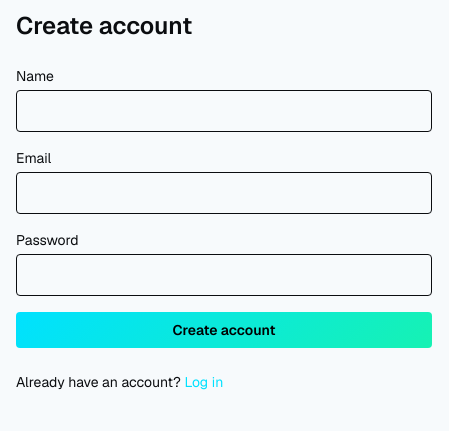
it: RegisterPage › validates short name
The image size is (449, 431).
Type "A" into the field named "name" below "Name".
click(224, 111); type("A")  # box [16,90,432,132]
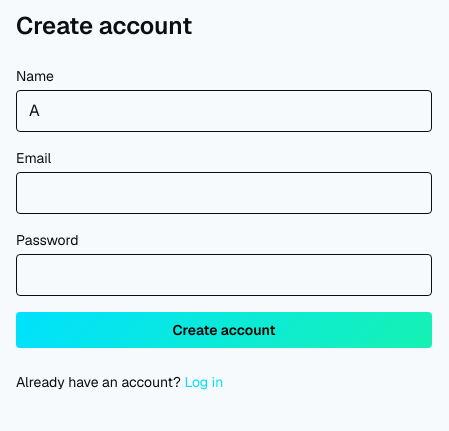
Type "a@b.com" into the field named "email" below "Email".
click(224, 193); type("a@b.com")  # box [16,172,432,214]
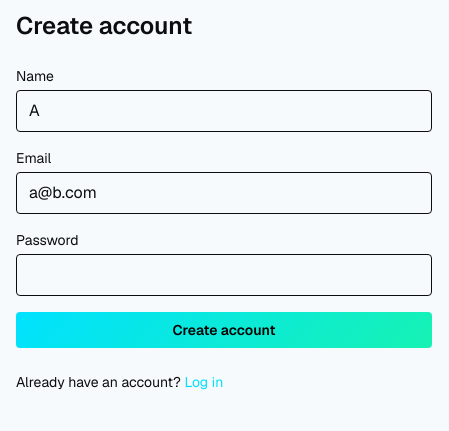
Type "123456" into the password field named "password".
click(224, 275); type("123456")  # box [16,254,432,296]
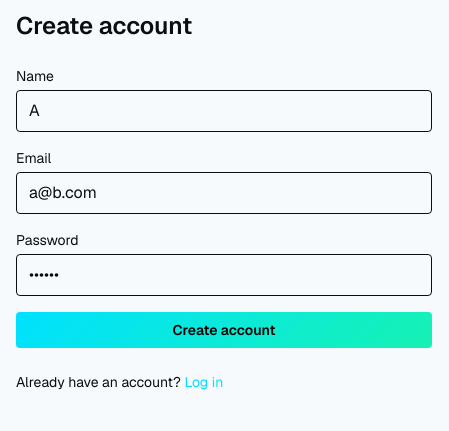
Click the button "Create account".
click(224, 330)  # box [16,312,432,348]
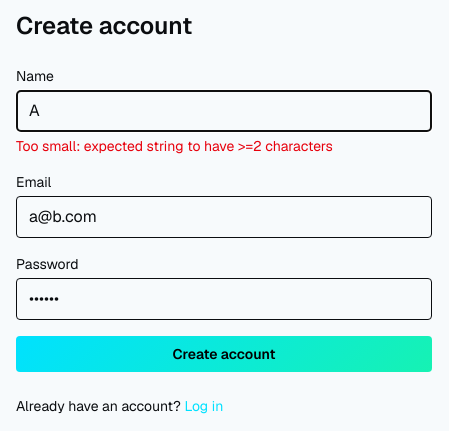
Expected: the text "Too small: expected string to have >=2 characters" is shown, [16,137,333,155]
